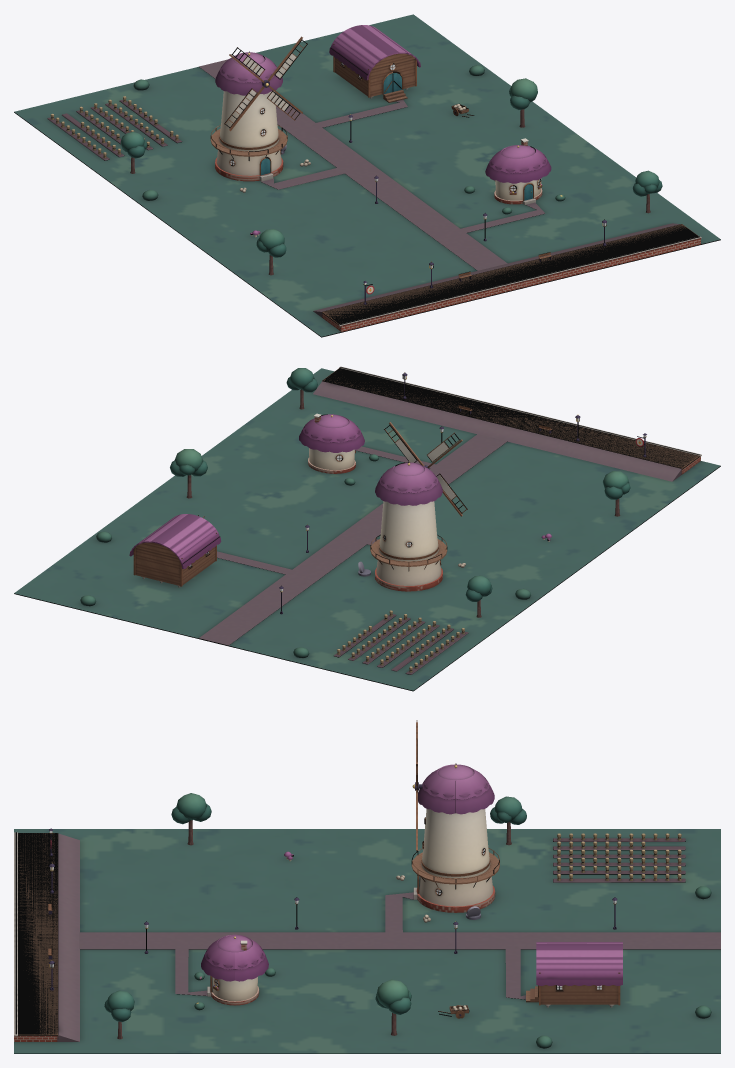
The model's file is stop_windmill.fbx.
The picture shows the model from 3 angles, top to bottom: view 1: azimuth 30°, elevation 25°; view 2: azimuth 150°, elevation 25°; view 3: azimuth 270°, elevation 25°; orthographic projection. The views are drawn at different scales.
Parts seen in each view (by area): view 1: stop_windmill; view 2: stop_windmill; view 3: stop_windmill.
Part boxes in pixels (left/top/right/bottom): stop_windmill: left=14, top=14, right=720, bottom=337; stop_windmill: left=14, top=366, right=720, bottom=691; stop_windmill: left=14, top=720, right=720, bottom=1053.
Bounding box in the file's own units: 12000 × 4018 × 16000.
2 materials, 1 textured.
